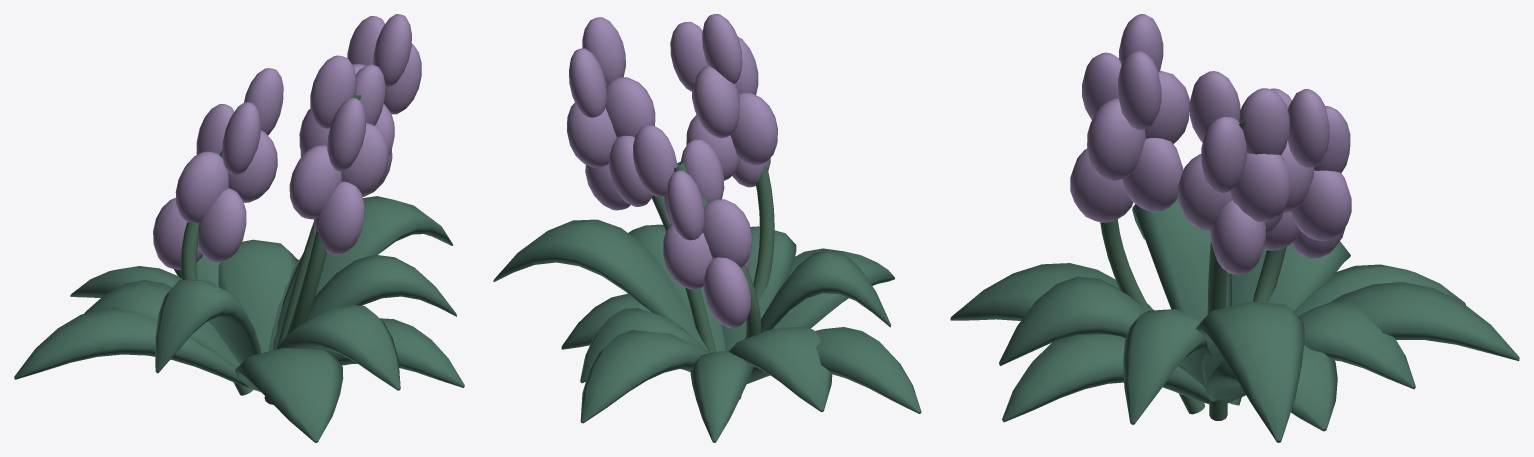
The picture shows the model from 3 angles, left to right: view 1: azimuth 30°, elevation 25°; view 2: azimuth 150°, elevation 25°; view 3: azimuth 270°, elevation 25°; orthographic projection. The views are drawn at different scales.
Parts seen in each view (by area): view 1: Lavender_wide; view 2: Lavender_wide; view 3: Lavender_wide.
Boxes of the visible parts, <box> form: Lavender_wide: <box>14,14,464,442</box>; Lavender_wide: <box>493,14,921,442</box>; Lavender_wide: <box>950,14,1519,442</box>.
Size of the model in its own units: 0.9158 by 0.705 by 0.861.
1 material, 1 textured.
